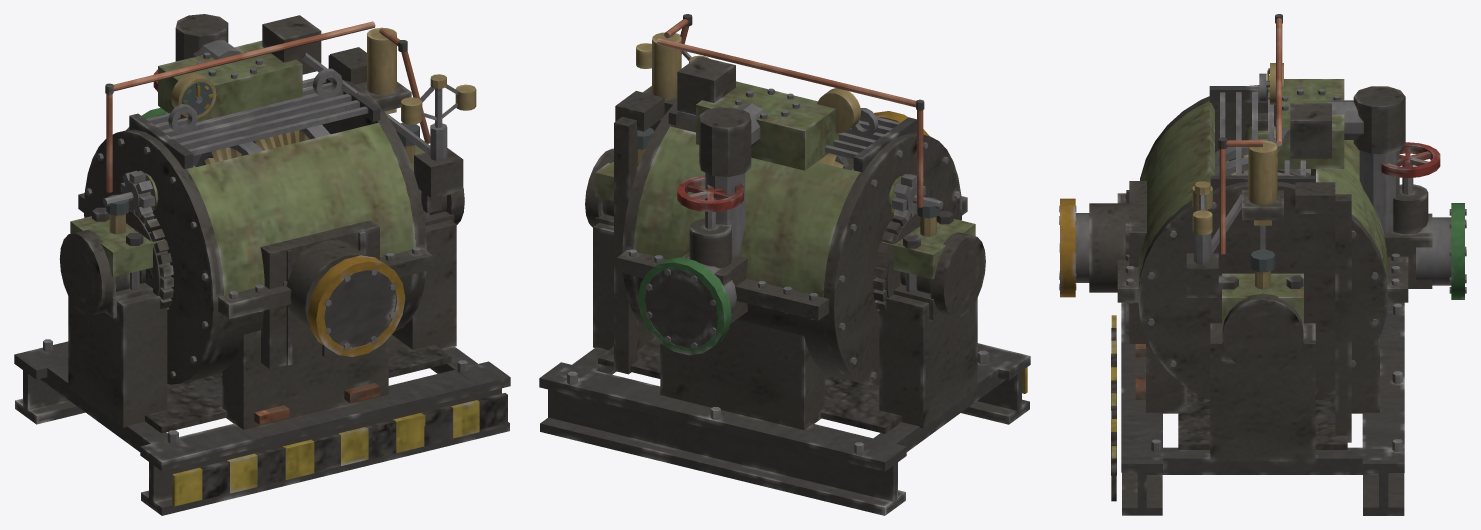
Rendered from feSteamTurbine_HD.fbx.
3 renders of one model, left to right at view 1: azimuth 30°, elevation 25°; view 2: azimuth 150°, elevation 25°; view 3: azimuth 270°, elevation 25°, orthographic. The views are drawn at different scales.
Visible parts, largest first — view 1: feSteamTurbine_Base, feSteamTurbine_CasingUpR, feSteamTurbine_Grille, FeSpin_DriveShaft, FeSpin_BarringGear, feSteamTurbine_CasingLow, FeSpin_x2_Governor, FeSpin_x8_Rotor, FeSpin_x3.7_Rev_BarringPinion; view 2: feSteamTurbine_Base, feSteamTurbine_CasingUpL, FeSpin_DriveShaft, feSteamTurbine_Grille, feSteamTurbine_CasingLow, FeSpin_BarringGear, FeSpin_x3.7_Rev_BarringPinion; view 3: feSteamTurbine_Base, feSteamTurbine_CasingUpR, FeSpin_DriveShaft, feSteamTurbine_Grille, feSteamTurbine_CasingUpL, FeSpin_x2_Governor, FeSpin_x8_Rotor.
Part boxes in pixels (x1,y1,x2,y2): feSteamTurbine_Base: [14, 14, 510, 515]; feSteamTurbine_CasingUpR: [187, 122, 415, 295]; feSteamTurbine_Grille: [129, 78, 380, 169]; FeSpin_DriveShaft: [59, 188, 464, 315]; FeSpin_BarringGear: [126, 207, 173, 312]; feSteamTurbine_CasingLow: [192, 274, 414, 380]; FeSpin_x2_Governor: [401, 74, 476, 127]; FeSpin_x8_Rotor: [186, 120, 330, 169]; FeSpin_x3.7_Rev_BarringPinion: [103, 170, 154, 217]; feSteamTurbine_Base: [539, 14, 1030, 515]; feSteamTurbine_CasingUpL: [633, 126, 859, 297]; FeSpin_DriveShaft: [585, 148, 985, 317]; feSteamTurbine_Grille: [668, 106, 916, 172]; feSteamTurbine_CasingLow: [634, 276, 853, 381]; FeSpin_BarringGear: [873, 210, 920, 313]; FeSpin_x3.7_Rev_BarringPinion: [891, 174, 943, 220]; feSteamTurbine_Base: [1059, 14, 1466, 515]; feSteamTurbine_CasingUpR: [1138, 101, 1214, 284]; FeSpin_DriveShaft: [1222, 293, 1303, 372]; feSteamTurbine_Grille: [1209, 86, 1315, 189]; feSteamTurbine_CasingUpL: [1311, 140, 1387, 284]; FeSpin_x2_Governor: [1192, 181, 1212, 235]; FeSpin_x8_Rotor: [1215, 139, 1310, 175].
Size of the model in its own units: 1 by 0.9625 by 1.01.
Materials: 1 (1 with a texture image).
